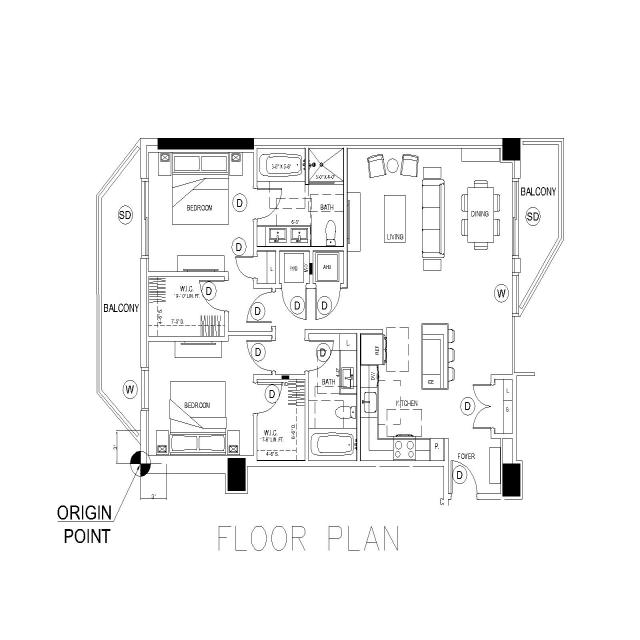Column: (157, 137, 256, 151), (226, 456, 247, 494), (502, 462, 522, 498), (502, 136, 522, 162)
Door: (490, 382, 496, 430), (270, 290, 276, 328), (450, 492, 478, 500), (252, 381, 258, 415), (252, 187, 258, 220), (270, 340, 276, 372), (304, 339, 308, 373), (224, 279, 228, 312), (314, 283, 342, 287), (281, 282, 307, 286), (253, 255, 257, 281)
Sliding Door: (140, 177, 150, 259), (512, 177, 520, 259)
Window: (140, 368, 150, 409), (511, 273, 519, 317)
